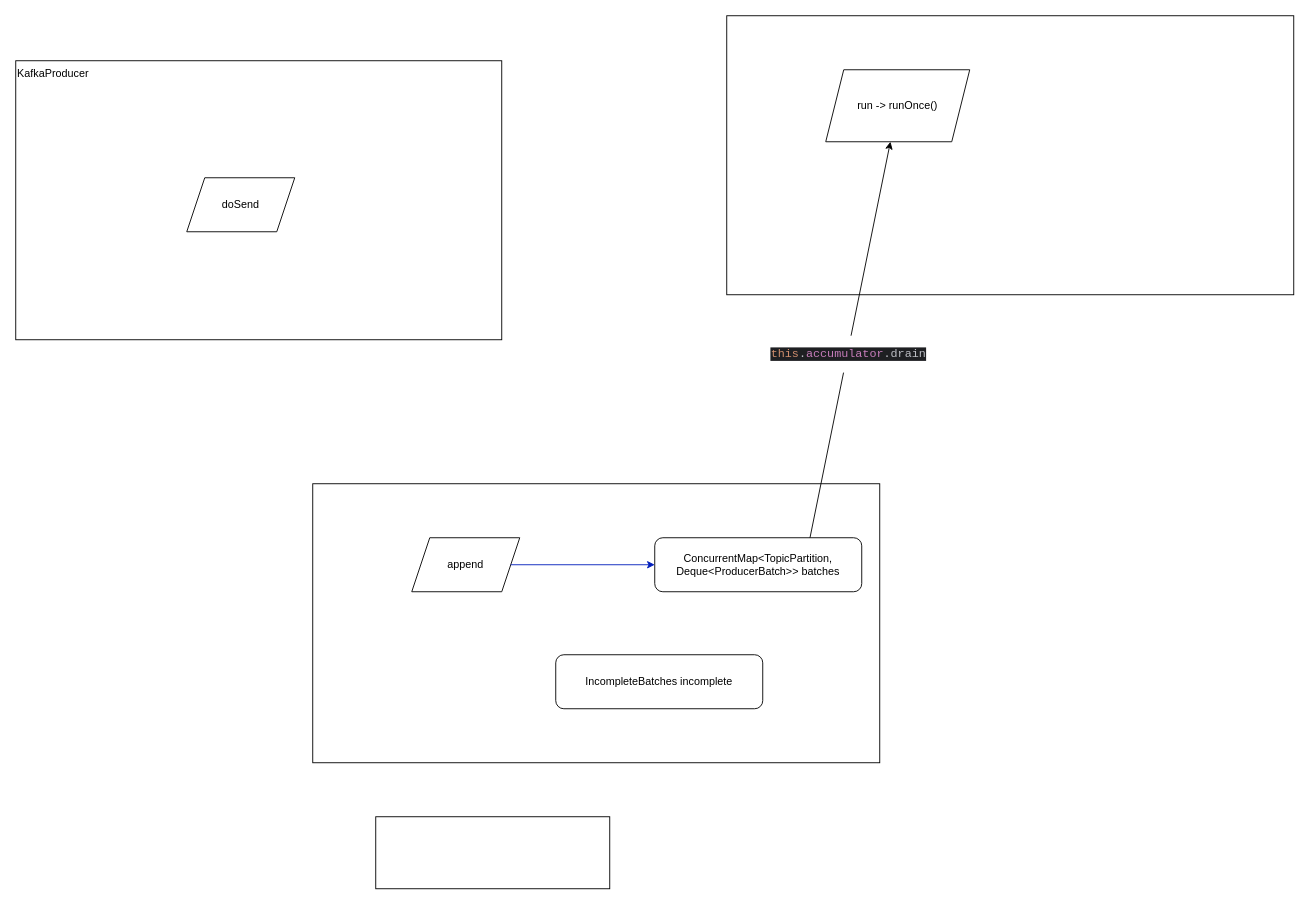
The diagram is 1310 pixels wide and 905 high, and some of its shapes have lost their labels. The box of each missing label's shape, as (x1, y1, x2, y2) in pixels:
RecordAccumulator: (312, 483, 880, 763)
Sender: (726, 15, 1294, 295)
Task Kill 条件 Sender停止条件: (375, 816, 610, 889)
